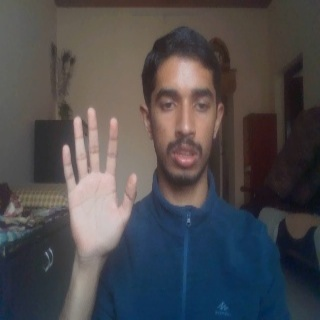Face: (139, 27, 225, 189)
Hello: (57, 105, 138, 263)
